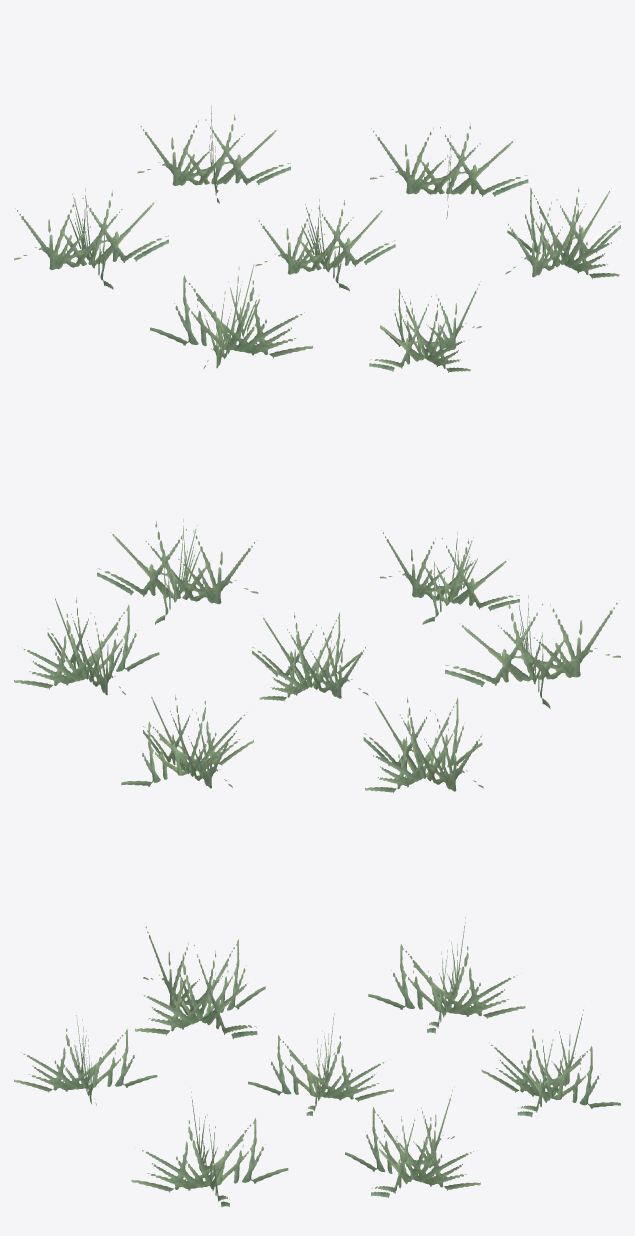
File: crop_lavender_1.glb
The picture shows the model from 3 angles, top to bottom: view 1: azimuth 30°, elevation 25°; view 2: azimuth 150°, elevation 25°; view 3: azimuth 270°, elevation 25°; orthographic projection. The views are drawn at different scales.
Parts seen in each view (by area): view 1: crop_lavender_1; view 2: crop_lavender_1; view 3: crop_lavender_1.
Boxes of the visible parts, x1,y1,x2,y2 form: crop_lavender_1: (14, 105, 620, 372); crop_lavender_1: (14, 519, 620, 793); crop_lavender_1: (14, 917, 620, 1207).
Size of the model in its own units: 0.6749 by 0.2059 by 0.7211.
Materials: 1 (1 with a texture image).
